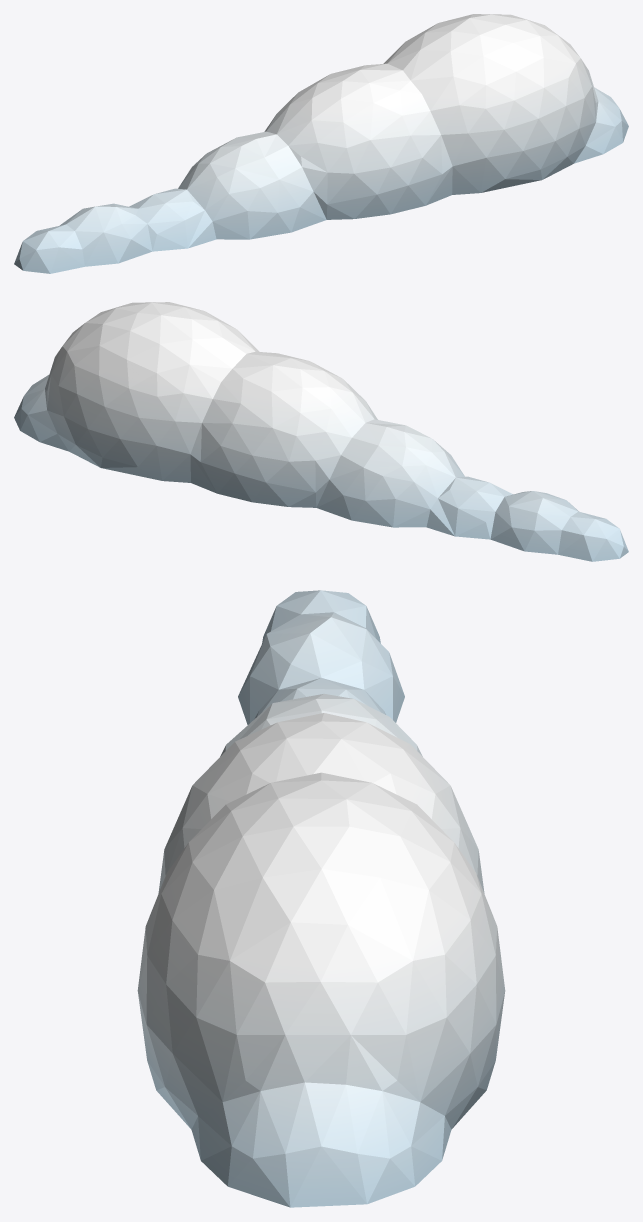
The model's file is cloud_menu_D.fbx.
3 views of the same model, one above another, from view 1: azimuth 30°, elevation 25°; view 2: azimuth 150°, elevation 25°; view 3: azimuth 270°, elevation 25° (orthographic). The views are drawn at different scales.
Visible parts, largest first — view 1: cloud_menu_D; view 2: cloud_menu_D; view 3: cloud_menu_D.
Part boxes in pixels (left/top/right/bottom): cloud_menu_D: left=14, top=14, right=628, bottom=273; cloud_menu_D: left=14, top=302, right=628, bottom=561; cloud_menu_D: left=137, top=590, right=505, bottom=1207.
Bounding box in the file's own units: 49.25 × 10.41 × 13.01.
